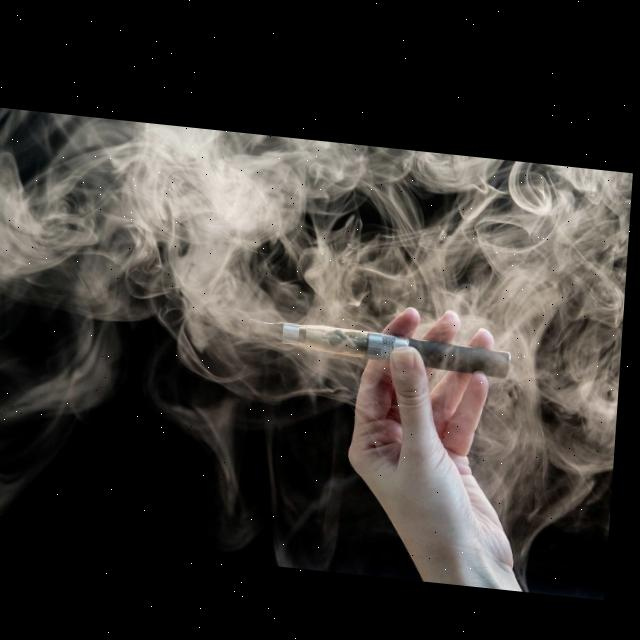vape: (248, 310, 517, 369)
